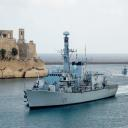Fragata: (24, 32, 120, 113)
